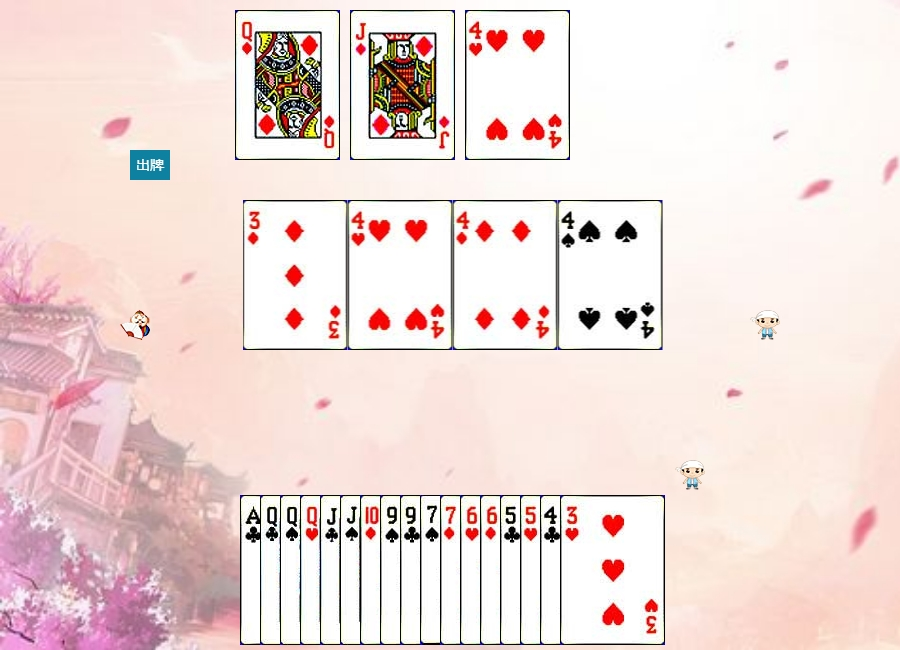10~1: (360, 495, 465, 645)
11~1: (350, 10, 455, 160)
11~2: (320, 495, 425, 645)
11~4: (340, 495, 445, 645)
12~1: (235, 10, 340, 160)
12~2: (260, 495, 365, 645)
12~3: (300, 495, 405, 645)
12~4: (280, 495, 385, 645)
14~2: (240, 495, 345, 645)
3~1: (243, 200, 348, 350)
3~3: (560, 495, 665, 645)
4~1: (453, 200, 558, 350)
4~2: (540, 495, 645, 645)
4~3: (465, 10, 570, 160), (348, 200, 453, 350)
4~4: (558, 200, 663, 350)
5~2: (500, 495, 605, 645)
5~3: (520, 495, 625, 645)
6~1: (480, 495, 585, 645)
6~3: (460, 495, 565, 645)
7~1: (440, 495, 545, 645)
7~4: (420, 495, 525, 645)
9~2: (400, 495, 505, 645)
9~4: (380, 495, 485, 645)
